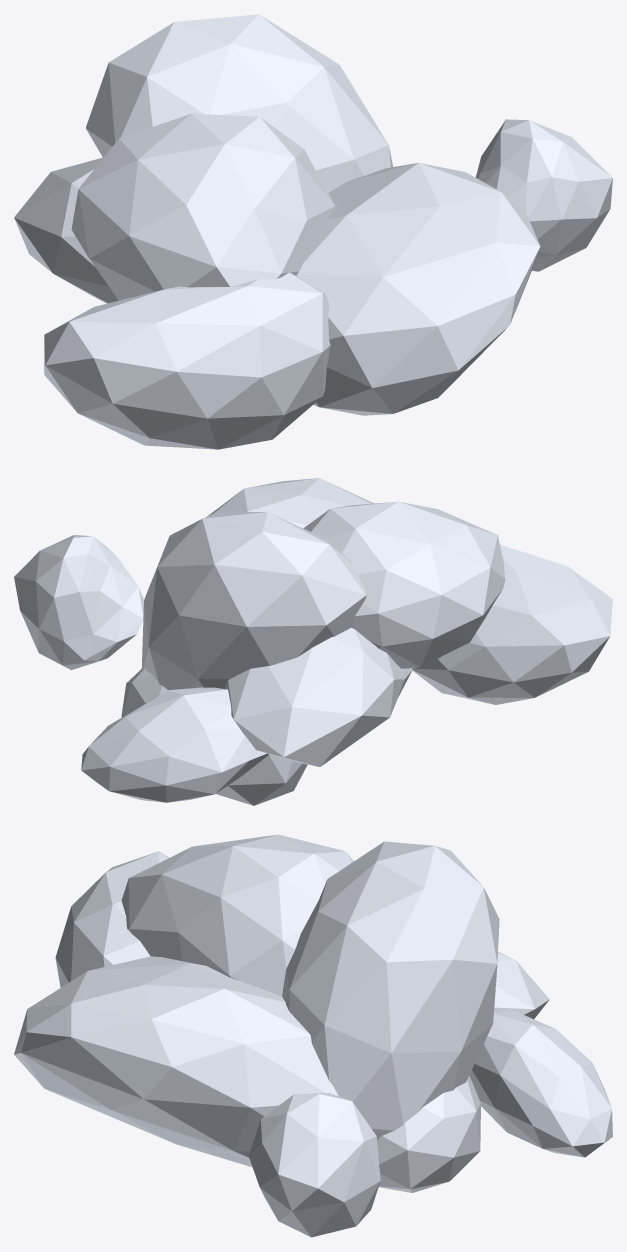
File: Cloud3.fbx
3 renders of one model, top to bottom at view 1: azimuth 30°, elevation 25°; view 2: azimuth 150°, elevation 25°; view 3: azimuth 270°, elevation 25°, orthographic. The views are drawn at different scales.
Parts seen in each view (by area): view 1: Cloud3; view 2: Cloud3; view 3: Cloud3.
Part boxes in pixels (<box>): Cloud3: <box>14,14,612,449</box>; Cloud3: <box>14,478,612,805</box>; Cloud3: <box>14,834,612,1237</box>.
Size of the model in its own units: 515 by 593 by 296.
